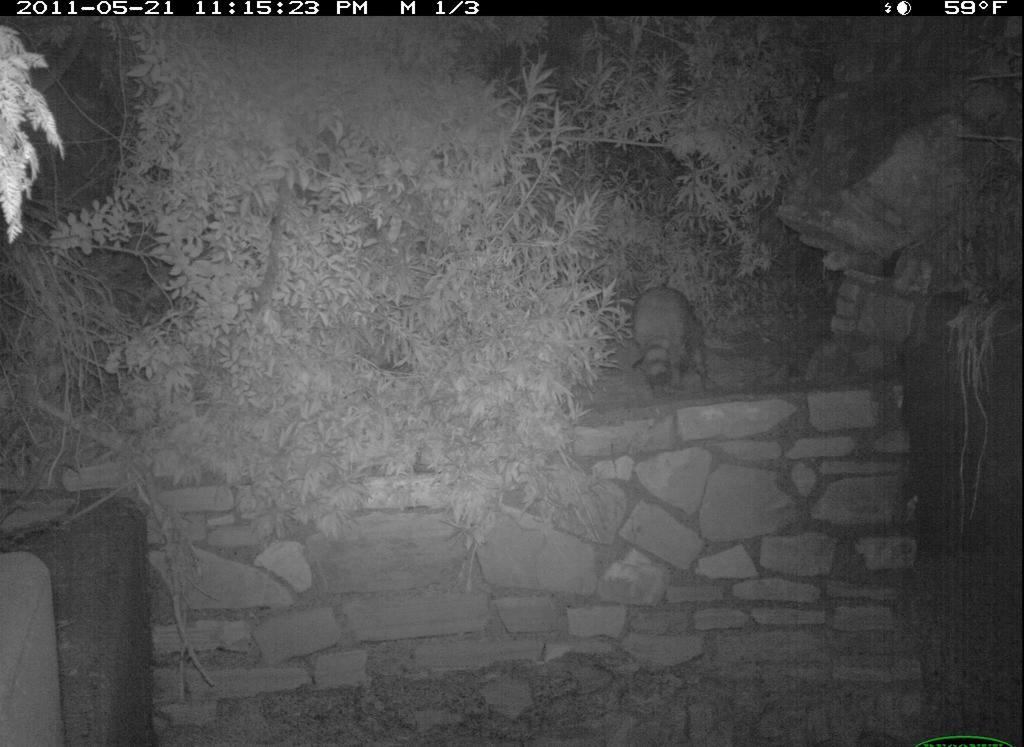raccoon: (609, 274, 738, 415)
